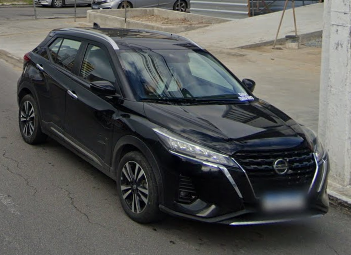car: (16, 24, 333, 232)
